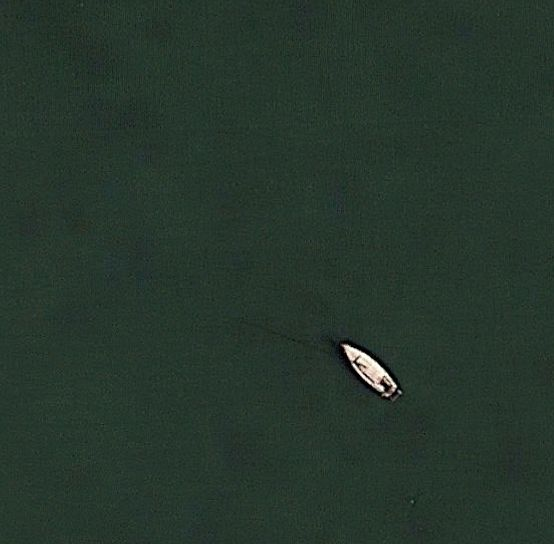boat: (332, 331, 403, 403)
